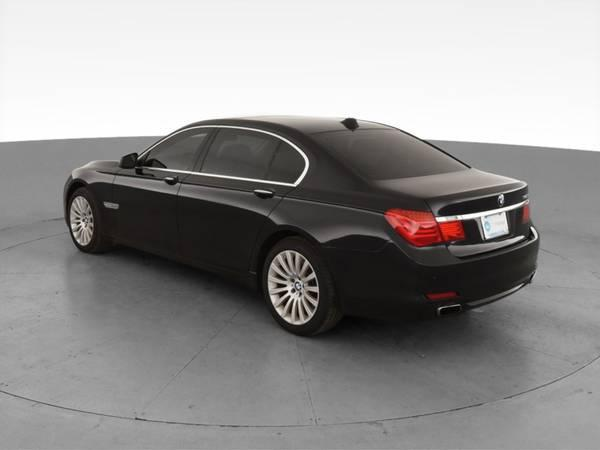Front_Fender: (62, 161, 120, 242)
Front_Left_Door: (110, 166, 192, 262)
Front_Left_Window: (124, 124, 214, 172)
Left_Taillight: (387, 208, 468, 247)
Rear_Bumper: (319, 221, 542, 319)
Rear_Fender: (268, 180, 434, 251)
Rear_Left_Door: (177, 171, 298, 288)
Rear_Left_Window: (191, 124, 309, 186)
Rear_Windshield: (307, 127, 471, 180)
Roof: (168, 115, 394, 191)
Tailgate: (370, 168, 529, 257)
Wheel: (259, 236, 335, 333), (64, 189, 96, 255)
